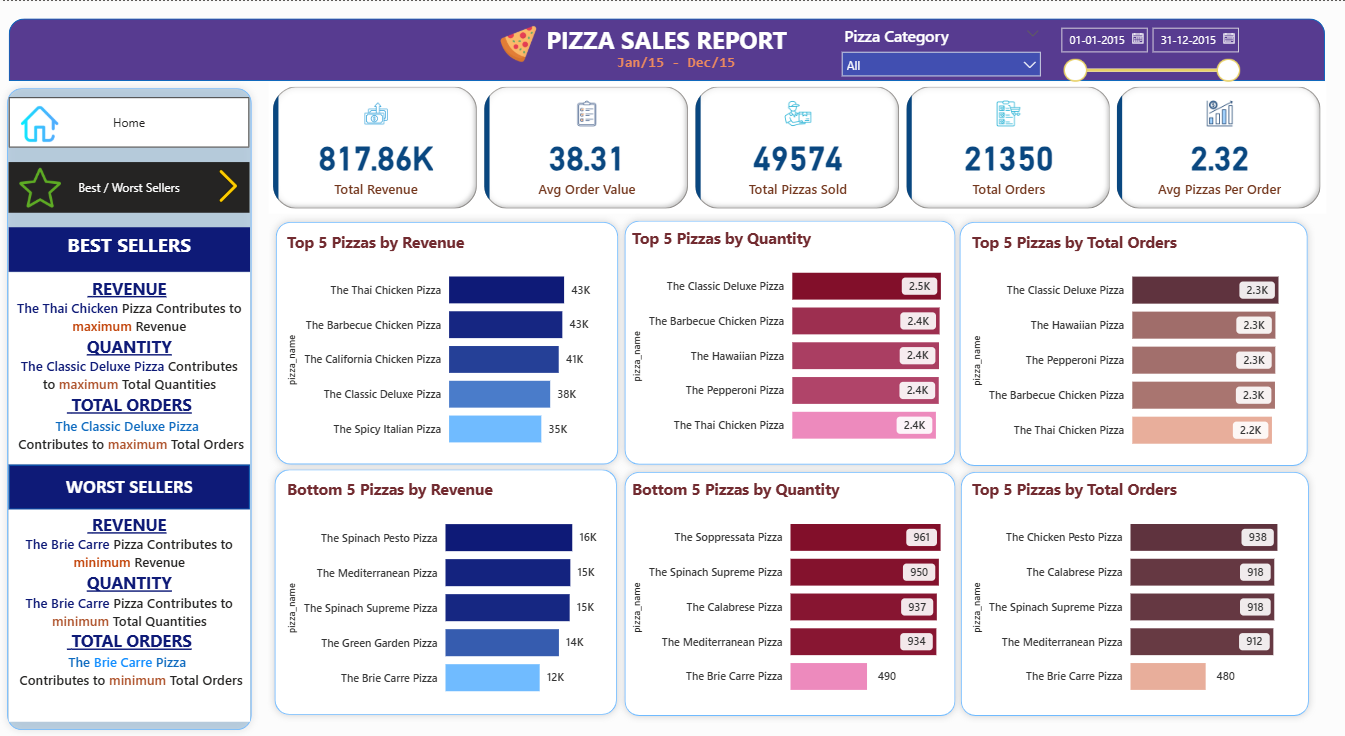

The page's visual inventory and layout, read from the dashboard file:
{"tool":"powerbi","page":{"name":"Best / Worst Sellers","canvas":[1500,820],"ordinal":1},"visuals":[{"type":"shape","box":[0,89.1,288.3,731.2],"z":0},{"type":"cardVisual","fields":{"Data":["pizza_sales.Total Revenue","pizza_sales.Avg Order Value","pizza_sales.Total Pizzas Sold","pizza_sales.Total Orders","pizza_sales.Avg Pizzas Per Order"]},"box":[299.1,90.1,1178.7,146.3],"z":1000},{"type":"shape","box":[9.7,19.5,1466.5,69.6],"z":2000},{"type":"textbox","box":[587.5,19.4,309.7,56.9],"z":3000},{"type":"textbox","box":[633.3,54.2,238.9,34.7],"z":4000},{"type":"image","box":[543.1,22.2,68.1,51.4],"z":5000},{"type":"shape","box":[299.1,238,397.2,286.2],"z":6000},{"type":"textbox","box":[9.6,252.5,268.5,49.9],"z":7000},{"type":"textbox","box":[9.6,302.3,268.5,213.9],"z":8000},{"type":"textbox","box":[9.6,566,268.5,238],"z":9000},{"type":"shape","box":[9.6,516.2,268.5,49.9],"z":10000},{"type":"slicer","fields":{"Values":["pizza_sales.pizza_category"]},"box":[927.5,22.3,242.3,69.6],"z":11000},{"type":"slicer","fields":{"Values":["pizza_sales.order_date"]},"box":[1169.8,19.5,220,72.4],"z":12000},{"type":"shape","box":[688.3,236.4,384.3,287.8],"z":13000},{"type":"shape","box":[1061.3,238,403.6,287.8],"z":14000},{"type":"shape","box":[297.5,514.6,397.2,289.5],"z":15000},{"type":"shape","box":[688.3,516.2,384.3,287.8],"z":16000},{"type":"shape","box":[1062.9,516.2,403.6,287.8],"z":17000},{"type":"barChart","title":"Top 5 Pizzas by Revenue","fields":{"Category":["pizza_sales.pizza_name"],"Y":["pizza_sales.Total Revenue"]},"box":[315.2,255.7,365,257.3],"z":18000},{"type":"barChart","title":"Bottom 5 Pizzas by Revenue","fields":{"Category":["pizza_sales.pizza_name"],"Y":["pizza_sales.Total Revenue"]},"box":[315.2,532.3,365,258.9],"z":19000},{"type":"barChart","title":"Top 5 Pizzas by Quantity","fields":{"Category":["pizza_sales.pizza_name"],"Y":["pizza_sales.Total Pizzas Sold"]},"box":[699.5,252.5,377.9,257.3],"z":20000},{"type":"barChart","title":"Bottom 5 Pizzas by Quantity","fields":{"Category":["pizza_sales.pizza_name"],"Y":["pizza_sales.Total Pizzas Sold"]},"box":[699.5,532.3,377.9,257.3],"z":21000},{"type":"barChart","title":"Top 5 Pizzas by Total Orders","fields":{"Category":["pizza_sales.pizza_name"],"Y":["pizza_sales.Total Orders"]},"box":[1077.4,255.7,376.3,258.9],"z":22000},{"type":"barChart","title":"Top 5 Pizzas by Total Orders","fields":{"Category":["pizza_sales.pizza_name"],"Y":["pizza_sales.Total Orders"]},"box":[1077.4,532.3,376.3,257.3],"z":23000},{"type":"pageNavigator","box":[9.6,107.7,268.5,56.3],"z":24000},{"type":"pageNavigator","box":[9.6,180.1,268.5,56.3],"z":25000},{"type":"image","box":[231.6,180.1,46.6,53.1],"z":26000},{"type":"image","box":[9.6,111,69.1,51.5],"z":27000},{"type":"image","box":[16.1,176.9,56.3,62.7],"z":28000}]}

Visuals, with their boxes in screenshot pixels (x1, y1, x2, y2), scaled from the page's 1500x820 canvas onto the 1345x736 screenshot:
shape: {"left": 0, "top": 80, "right": 259, "bottom": 735}
cardVisual - pizza_sales.Total Revenue x pizza_sales.Avg Order Value: {"left": 268, "top": 81, "right": 1325, "bottom": 212}
shape: {"left": 9, "top": 18, "right": 1324, "bottom": 80}
textbox: {"left": 527, "top": 17, "right": 804, "bottom": 68}
textbox: {"left": 568, "top": 49, "right": 782, "bottom": 80}
image: {"left": 487, "top": 20, "right": 548, "bottom": 66}
shape: {"left": 268, "top": 214, "right": 624, "bottom": 471}
textbox: {"left": 9, "top": 227, "right": 249, "bottom": 271}
textbox: {"left": 9, "top": 271, "right": 249, "bottom": 463}
textbox: {"left": 9, "top": 508, "right": 249, "bottom": 722}
shape: {"left": 9, "top": 463, "right": 249, "bottom": 508}
slicer - pizza_sales.pizza_category: {"left": 832, "top": 20, "right": 1049, "bottom": 82}
slicer - pizza_sales.order_date: {"left": 1049, "top": 18, "right": 1246, "bottom": 82}
shape: {"left": 617, "top": 212, "right": 962, "bottom": 471}
shape: {"left": 952, "top": 214, "right": 1314, "bottom": 472}
shape: {"left": 267, "top": 462, "right": 623, "bottom": 722}
shape: {"left": 617, "top": 463, "right": 962, "bottom": 722}
shape: {"left": 953, "top": 463, "right": 1315, "bottom": 722}
"Top 5 Pizzas by Revenue" barChart: {"left": 283, "top": 230, "right": 610, "bottom": 460}
"Bottom 5 Pizzas by Revenue" barChart: {"left": 283, "top": 478, "right": 610, "bottom": 710}
"Top 5 Pizzas by Quantity" barChart: {"left": 627, "top": 227, "right": 966, "bottom": 458}
"Bottom 5 Pizzas by Quantity" barChart: {"left": 627, "top": 478, "right": 966, "bottom": 709}
"Top 5 Pizzas by Total Orders" barChart: {"left": 966, "top": 230, "right": 1303, "bottom": 462}
"Top 5 Pizzas by Total Orders" barChart: {"left": 966, "top": 478, "right": 1303, "bottom": 709}
pageNavigator: {"left": 9, "top": 97, "right": 249, "bottom": 147}
pageNavigator: {"left": 9, "top": 162, "right": 249, "bottom": 212}
image: {"left": 208, "top": 162, "right": 249, "bottom": 209}
image: {"left": 9, "top": 100, "right": 71, "bottom": 146}
image: {"left": 14, "top": 159, "right": 65, "bottom": 215}
